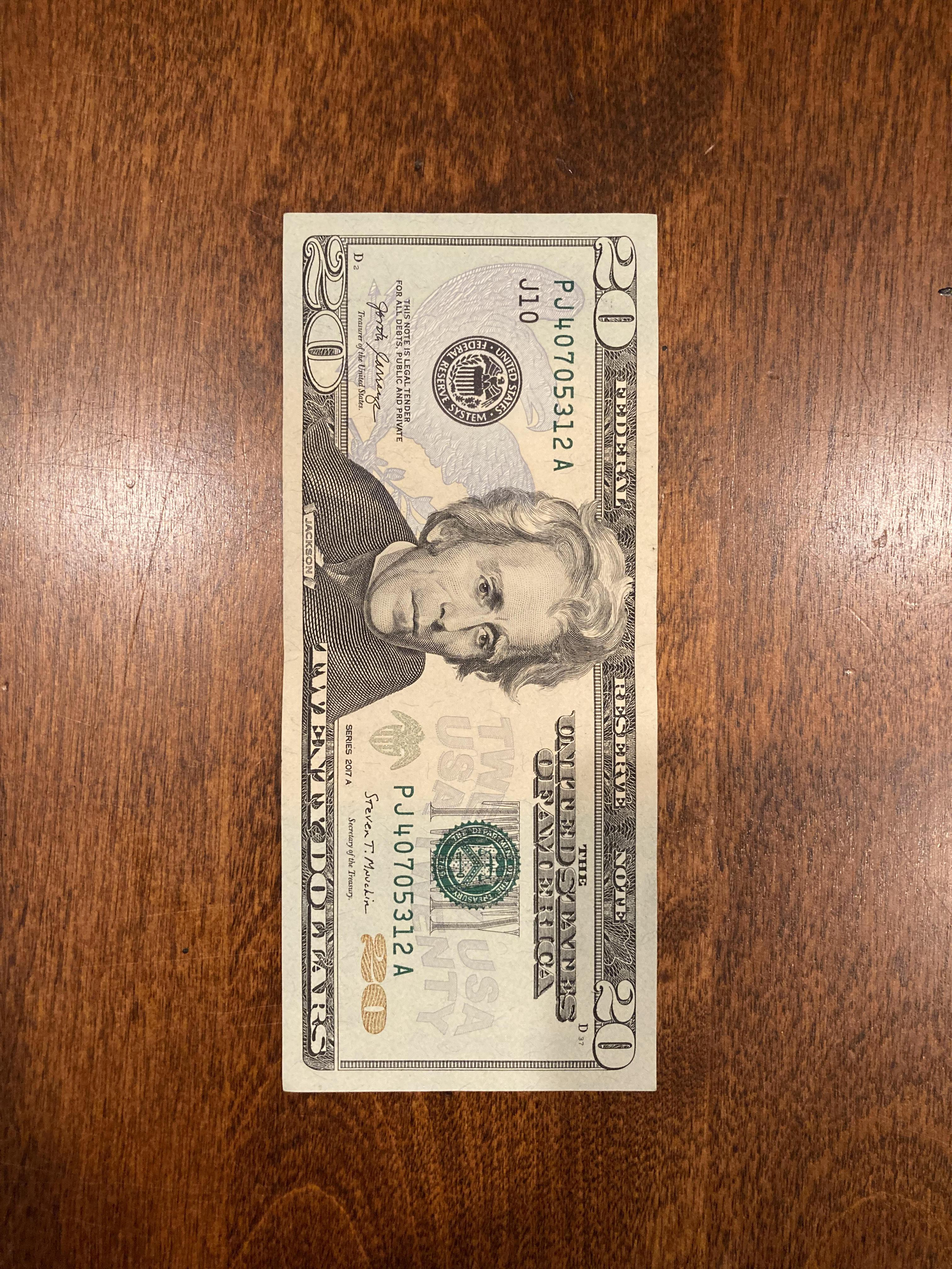twenty-front: (277, 206, 664, 1094)
